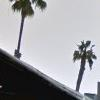Palm tree: (64, 31, 93, 98)
